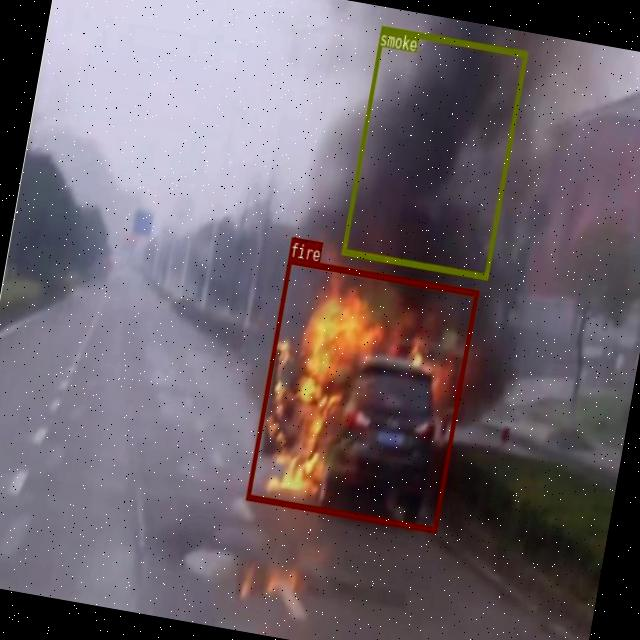fire: (245, 256, 478, 532)
smoke: (340, 24, 527, 278)
